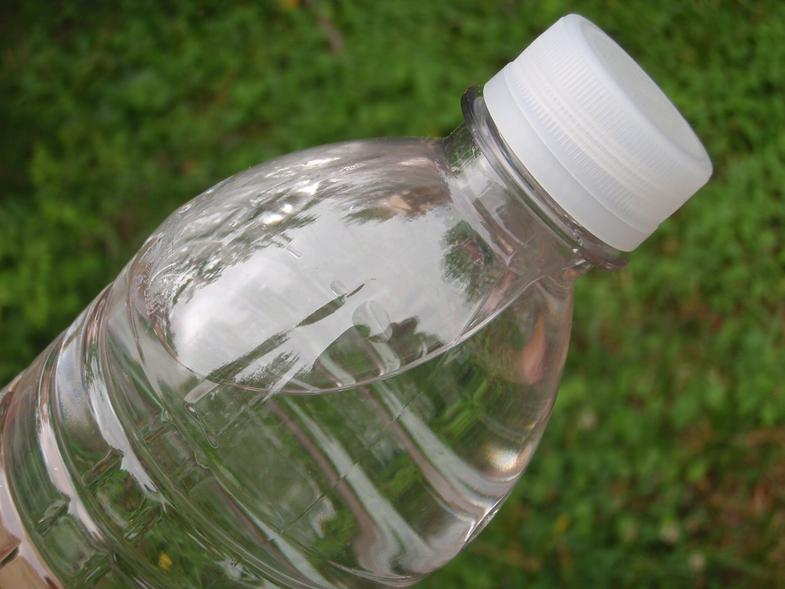plastic: (0, 15, 711, 588)
